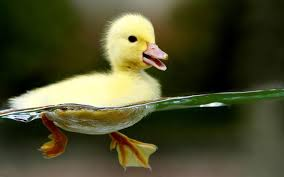Vịt/Duck: (35, 6, 180, 170)
